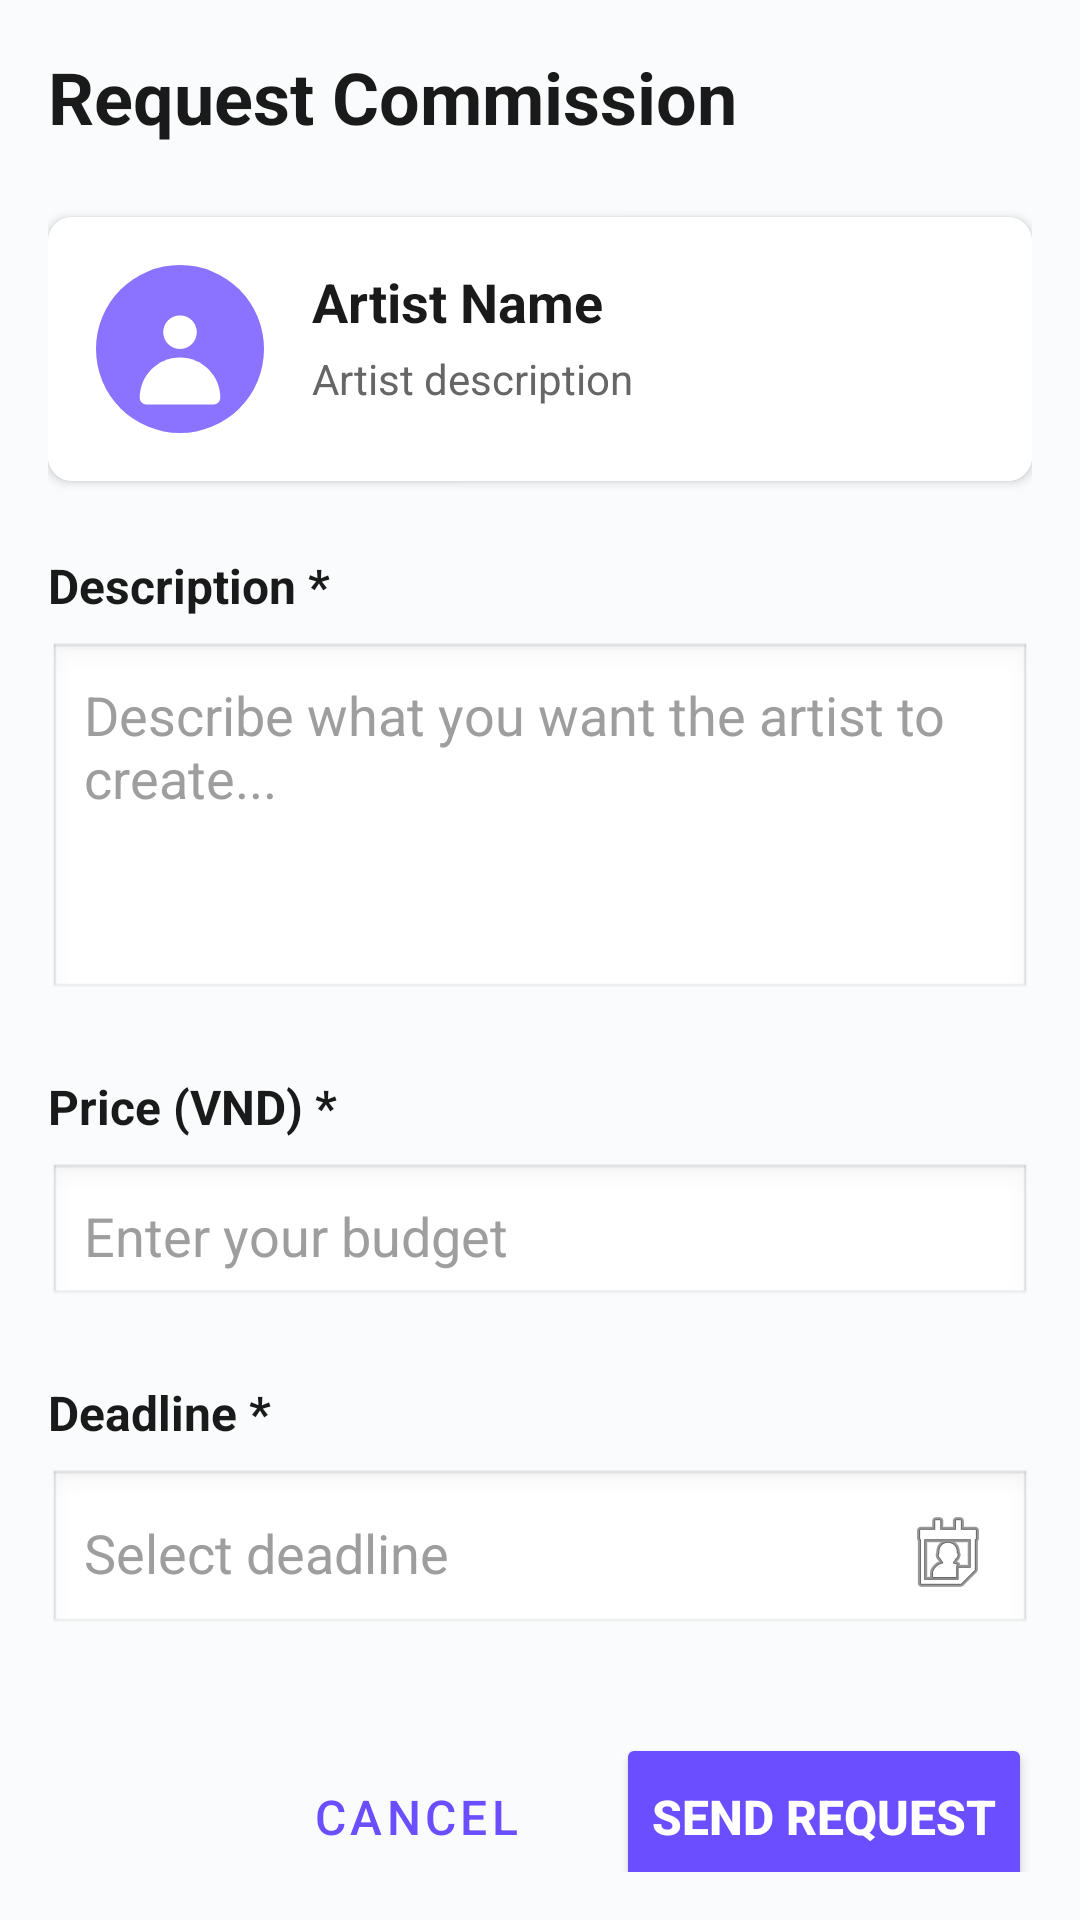

Icons on this 1080px x 1920px Android screen, each with its box as (x1, y1, x2, y2):
defaultavatar: (96, 265, 264, 433)
